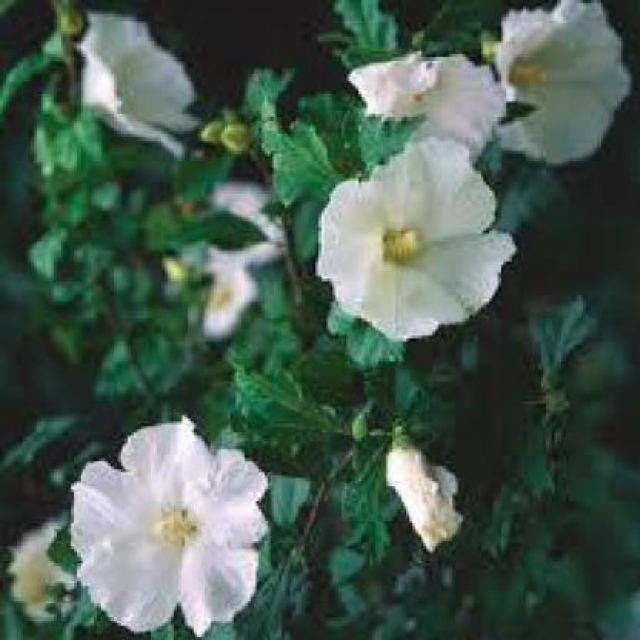flower: (312, 144, 526, 336), (72, 422, 276, 623), (330, 32, 535, 176), (487, 5, 628, 173), (48, 12, 210, 153), (365, 427, 486, 561)
